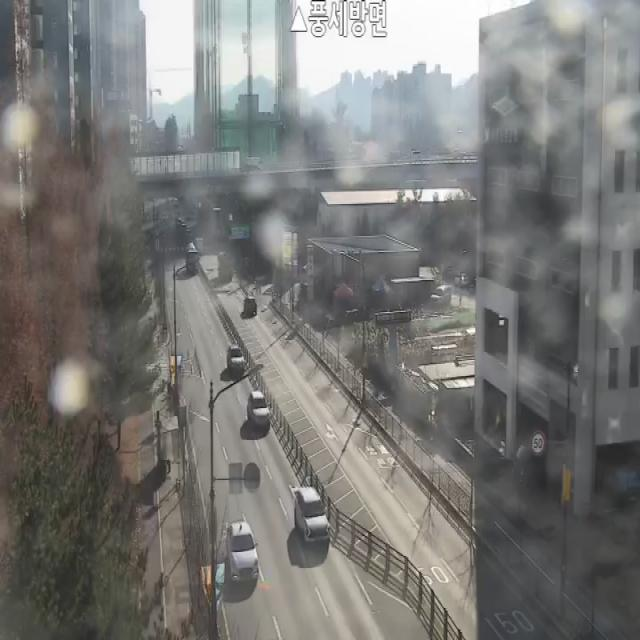Car: (294, 487, 330, 546), (226, 520, 259, 584), (248, 391, 270, 430), (227, 345, 245, 377), (430, 284, 452, 304), (243, 297, 257, 315)
Truck: (187, 242, 200, 276)
